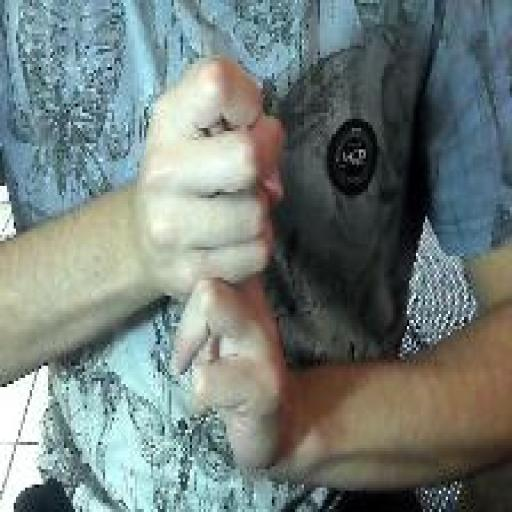Ne -rat-: (130, 52, 293, 481)
